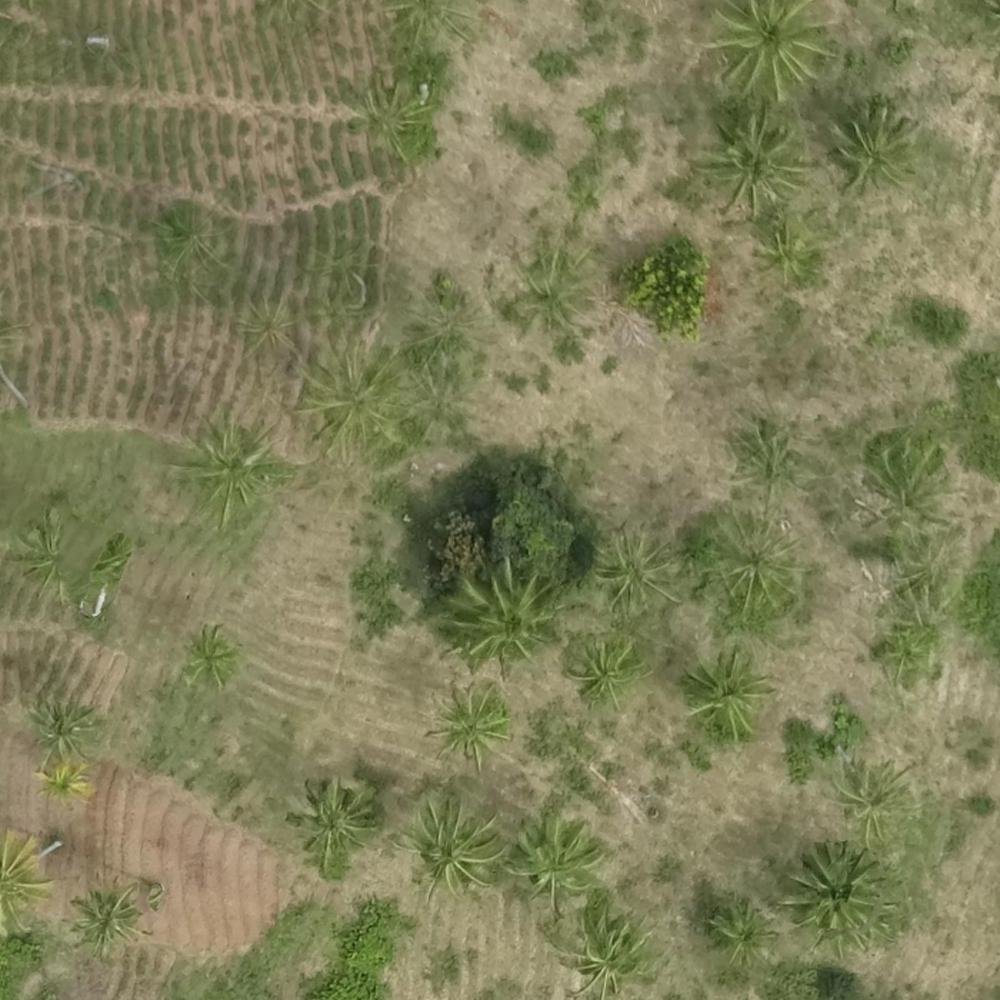Palm: (707, 1, 834, 104), (687, 508, 805, 615), (700, 108, 808, 216), (445, 564, 551, 673), (288, 345, 394, 447), (178, 419, 281, 513), (790, 847, 887, 946), (402, 799, 495, 896), (504, 815, 597, 905), (586, 528, 675, 618), (831, 106, 918, 194), (683, 649, 769, 738), (562, 914, 654, 993), (292, 775, 376, 856), (833, 759, 916, 834), (565, 634, 649, 708), (432, 681, 509, 759), (24, 690, 104, 763), (70, 883, 147, 951), (702, 900, 774, 965), (758, 222, 824, 285), (176, 627, 236, 688), (28, 762, 90, 814)
